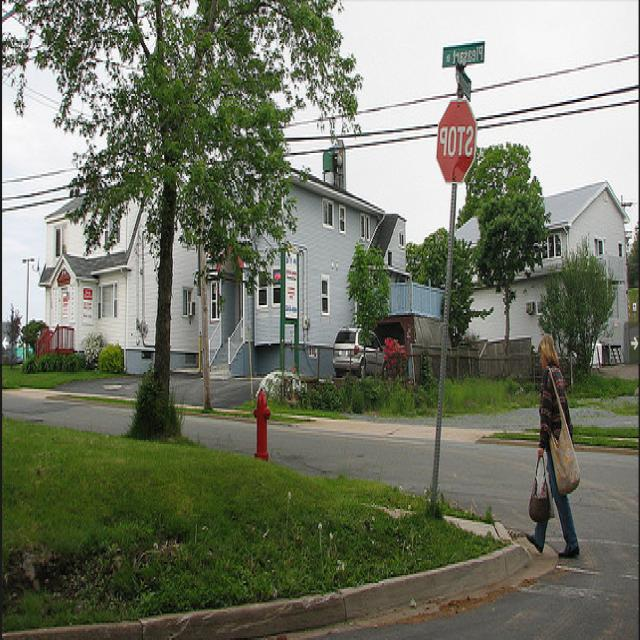STOP: (434, 101, 478, 191)
